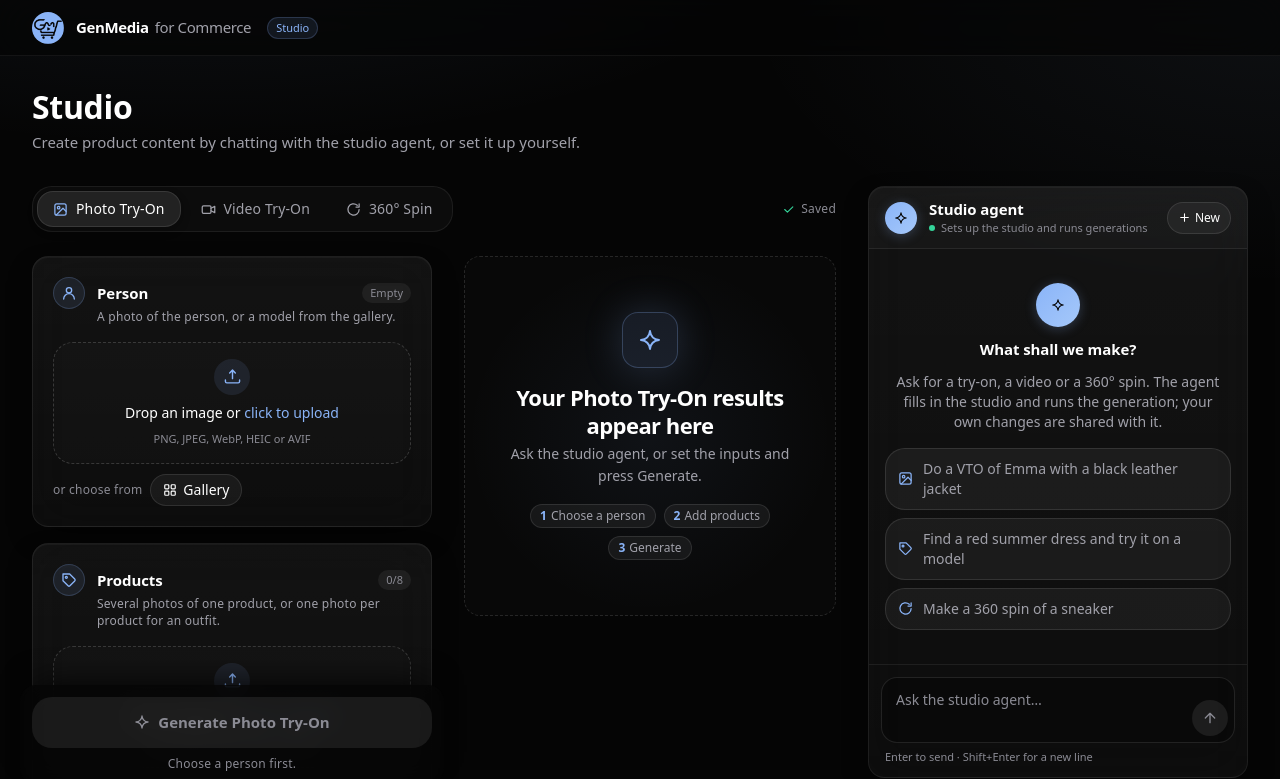
Studio page › sends a gallery model pick as a set action
What coordinates should you click on to do the following:
click the button "Gallery"
I would click on:
 (196, 490)
Its box is [150,474,242,506].
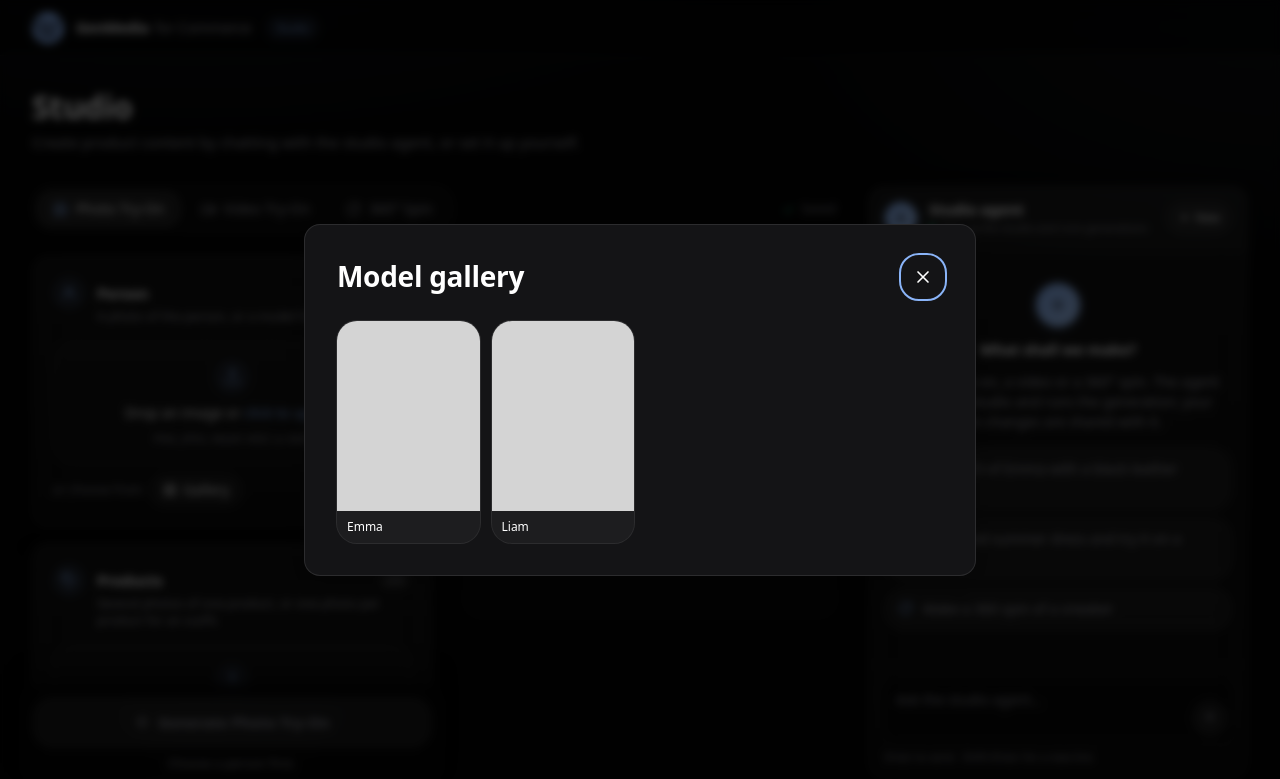
What coordinates should you click on to do the following:
click the button "Emma"
I would click on:
 (408, 432)
Its box is [337,321,480,543].
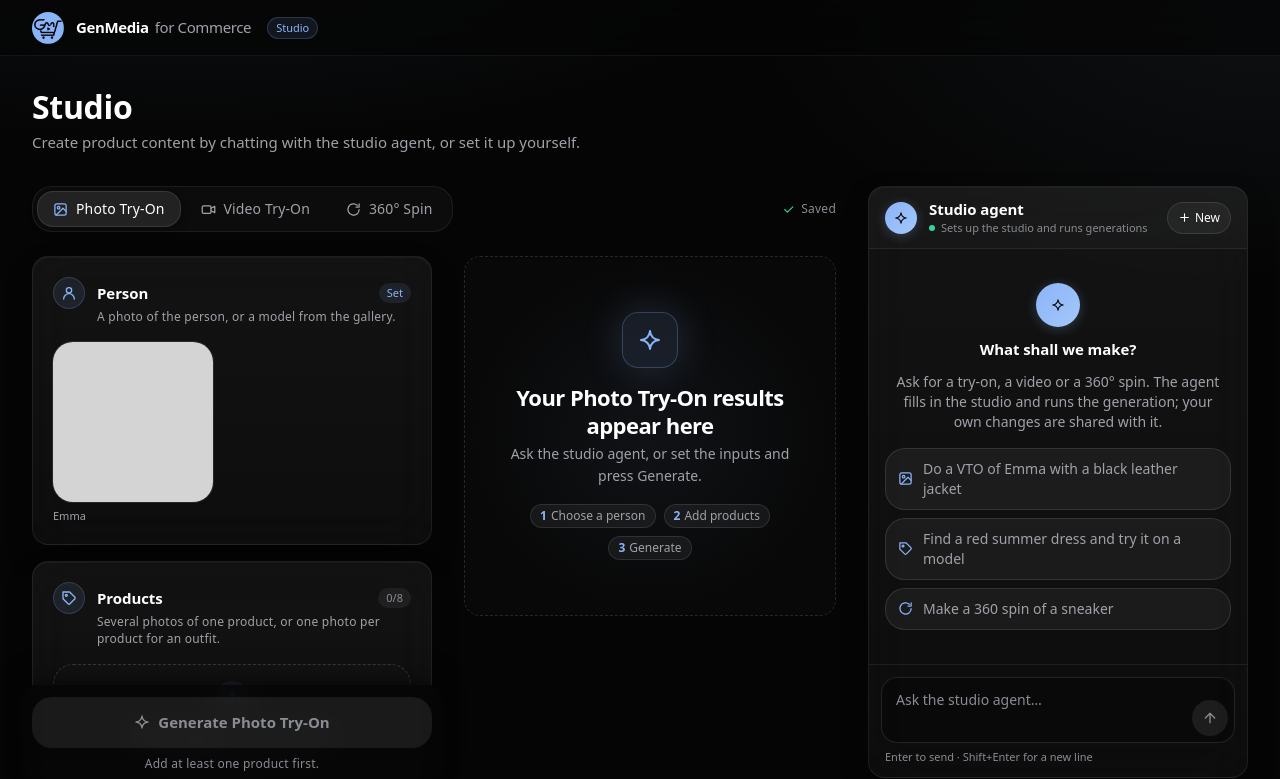
Expected: the dialog is gone
